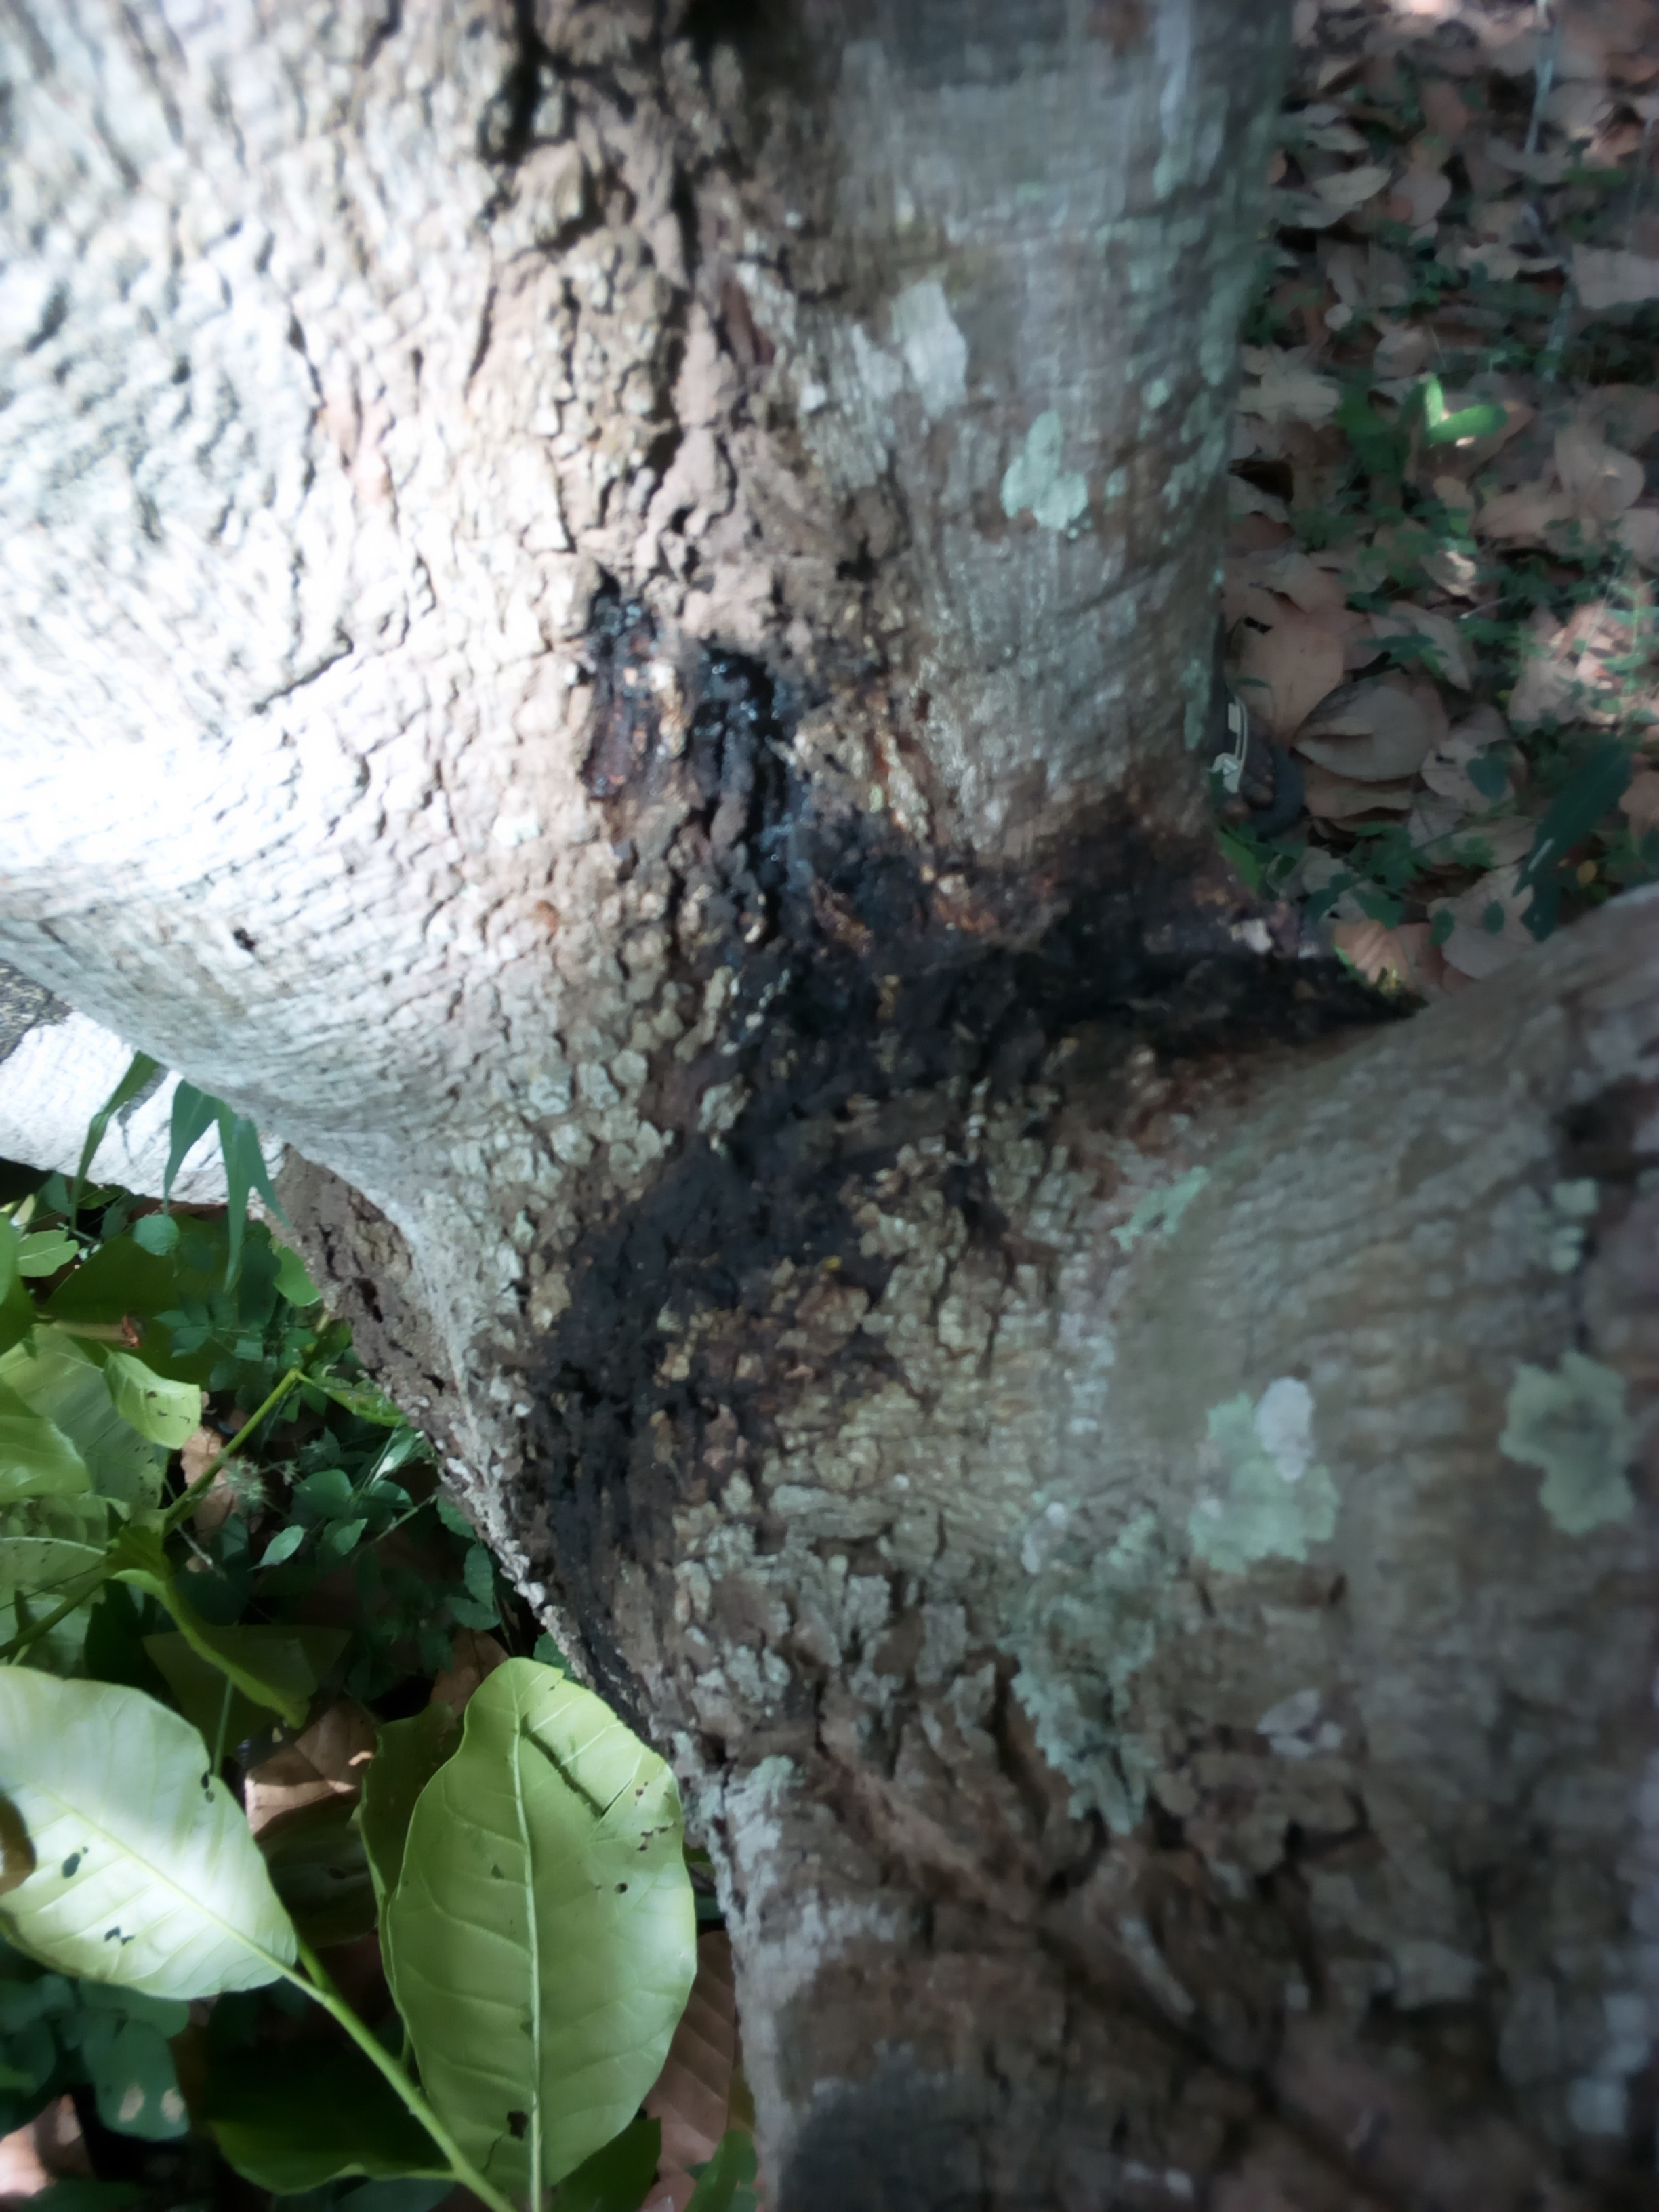Gommose: (491, 927, 1077, 1557)
